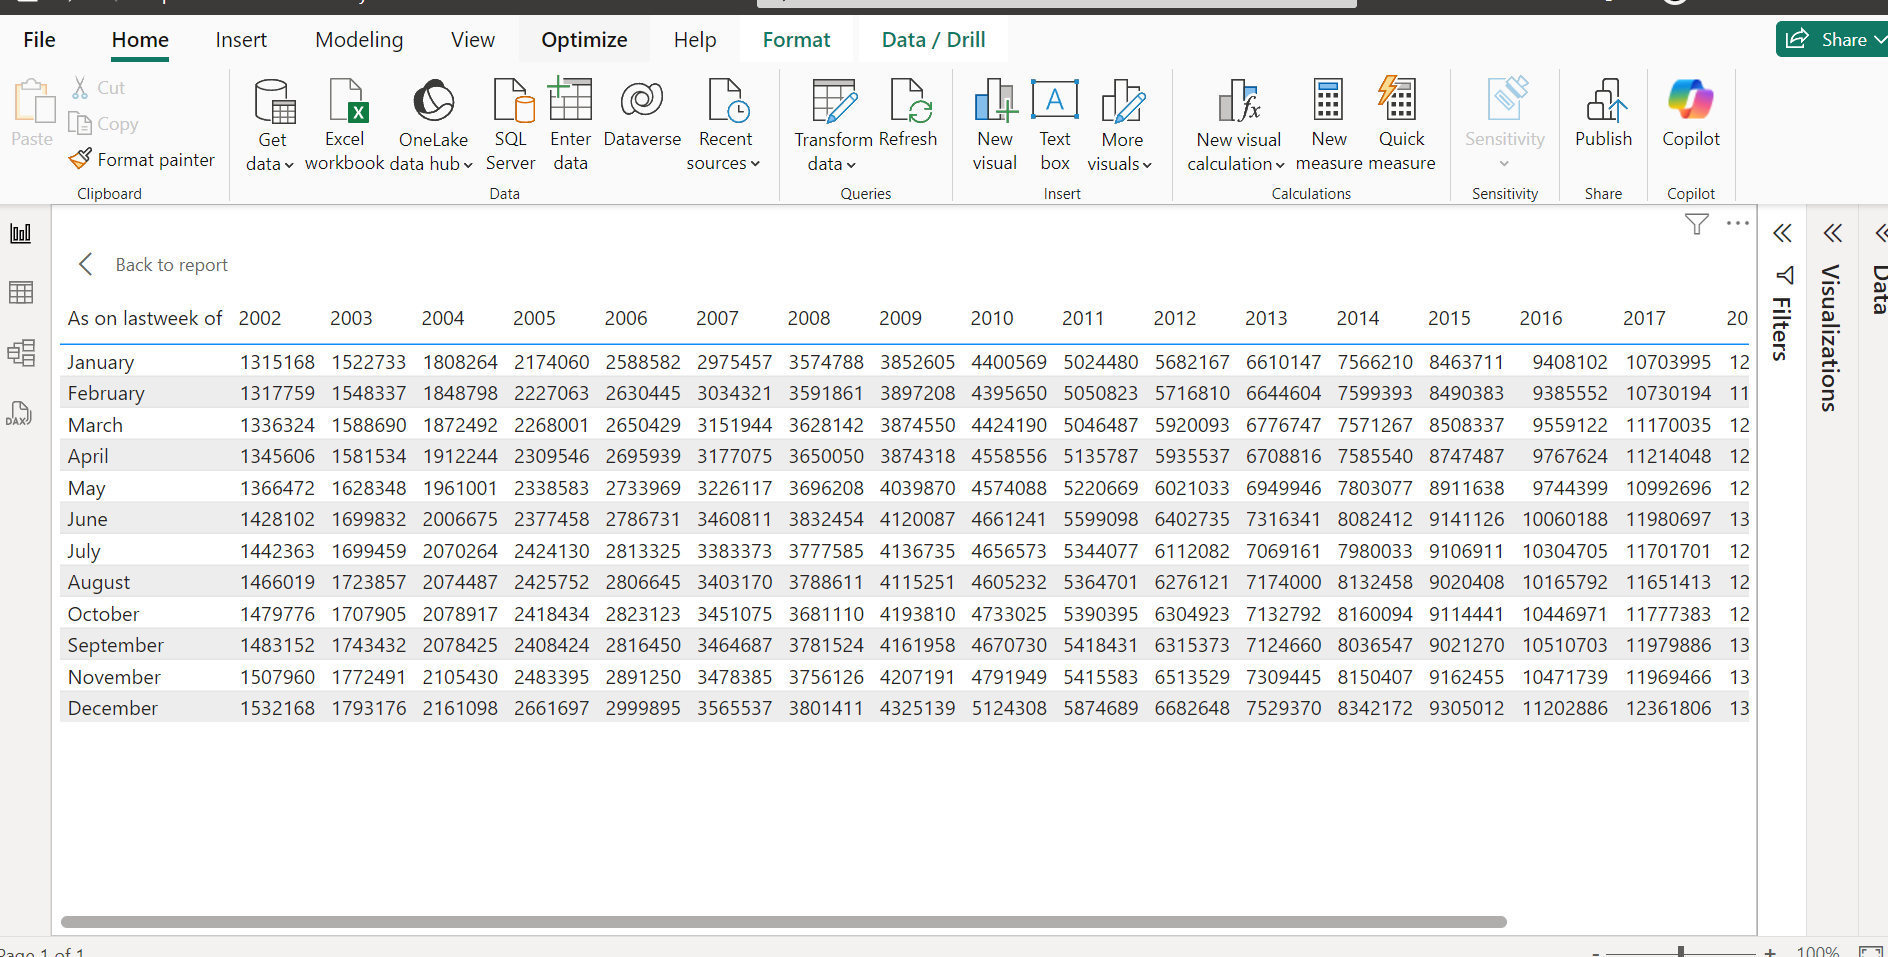

This screenshot's page, from the dashboard's own definition file:
{"tool":"powerbi","page":{"name":"Page 1","canvas":[1280,720],"ordinal":0},"visuals":[{"type":"tableEx","fields":{"Values":["Table001 (Page 1).As on lastweek of","Table001 (Page 1).2002","Table001 (Page 1).2003","Table001 (Page 1).2004","Table001 (Page 1).2005","Table001 (Page 1).2006","Table001 (Page 1).2007","Table001 (Page 1).2008","Table001 (Page 1).2009","Table001 (Page 1).2010","Table001 (Page 1).2011","Table001 (Page 1).2012"]},"box":[0,0,1279.4,321.3],"z":0}]}

Visuals, with their boxes on the page's 1280x720 design canvas (x1, y1, x2, y2). These are canvas units, not pixel positions in the 1888x957 screenshot, which may show the page scaled, cropped or inside an application window:
tableEx - Table001 (Page 1).As on lastweek of x Table001 (Page 1).2002: 0/0/1279/321
